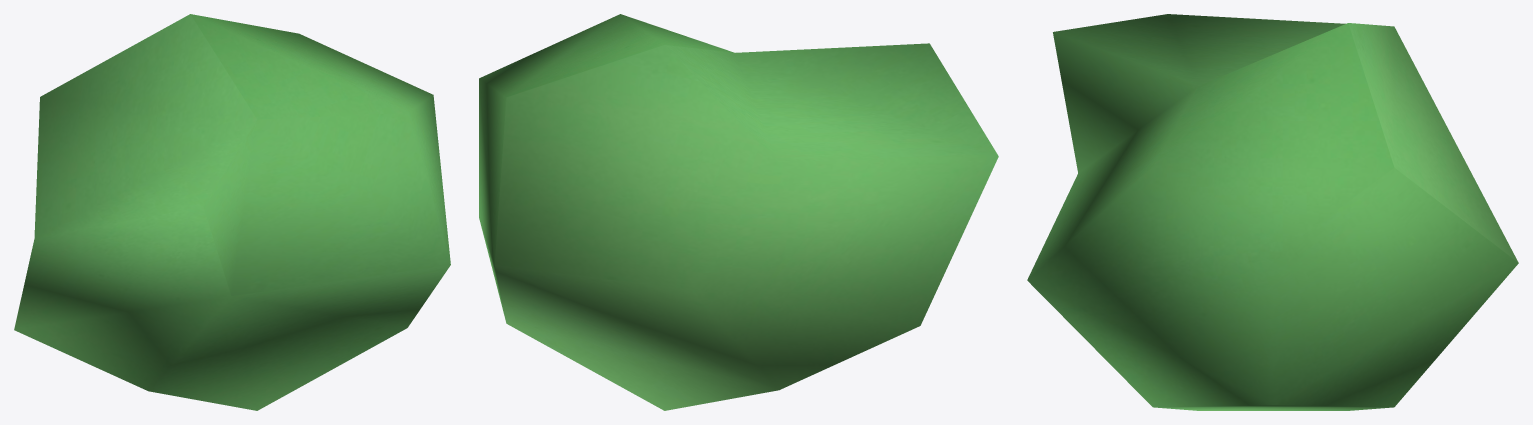
Rendered from bush.obj.
3 views of the same model, side by side, from view 1: azimuth 30°, elevation 25°; view 2: azimuth 150°, elevation 25°; view 3: azimuth 270°, elevation 25° (orthographic). The views are drawn at different scales.
Bounding box in the file's own units: 1.99 × 1.48 × 1.7.
1 material, 1 textured.
